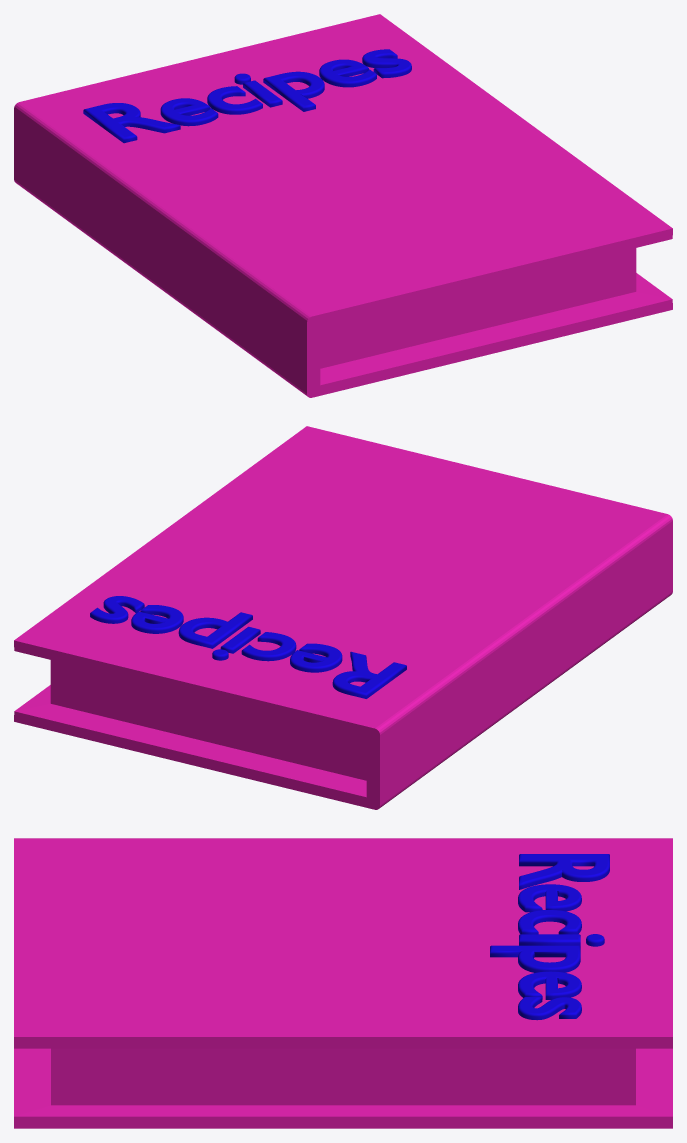
The model's file is Book.fbx.
3 views of the same model, one above another, from view 1: azimuth 30°, elevation 25°; view 2: azimuth 150°, elevation 25°; view 3: azimuth 270°, elevation 25° (orthographic). The views are drawn at different scales.
Parts seen in each view (by area): view 1: Book, Text; view 2: Book, Text; view 3: Book, Text.
Boxes of the visible parts, x1,y1,x2,y2 form: Book: (14, 14, 672, 397); Text: (83, 49, 411, 143); Book: (14, 426, 672, 809); Text: (90, 596, 406, 698); Book: (14, 838, 672, 1128); Text: (490, 854, 609, 1020).
Size of the model in its own units: 133 by 30.07 by 185.
